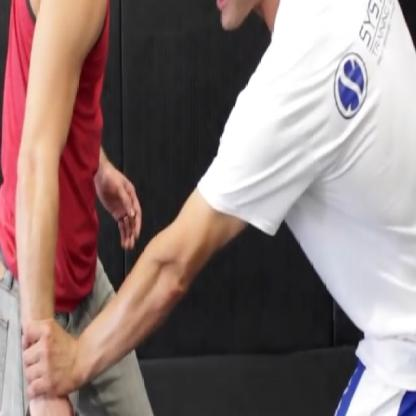knife: (15, 392, 155, 415)
